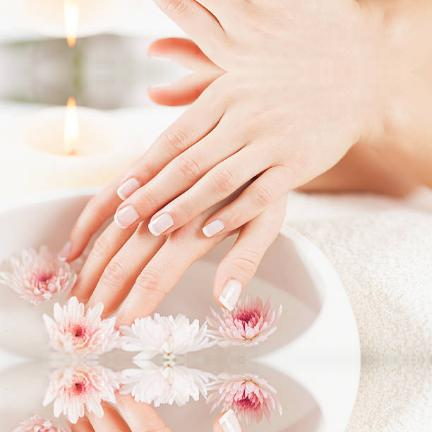Nail: (219, 280, 242, 311), (114, 205, 139, 229), (148, 213, 174, 236), (117, 177, 140, 200), (219, 409, 242, 432), (202, 220, 224, 238), (57, 240, 72, 262)
